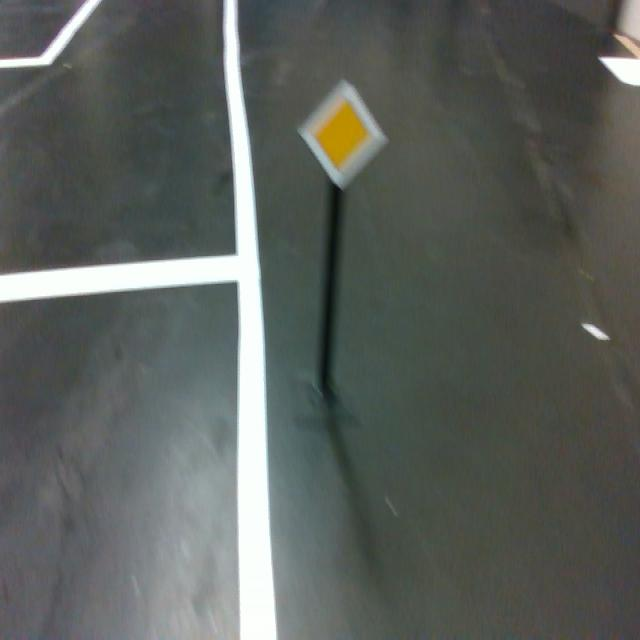priority-sign: (296, 78, 390, 192)
